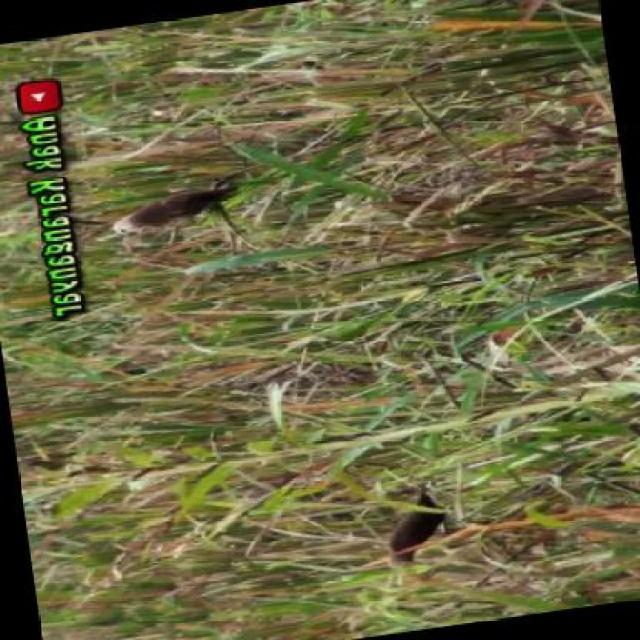Bird: (99, 185, 254, 244)
